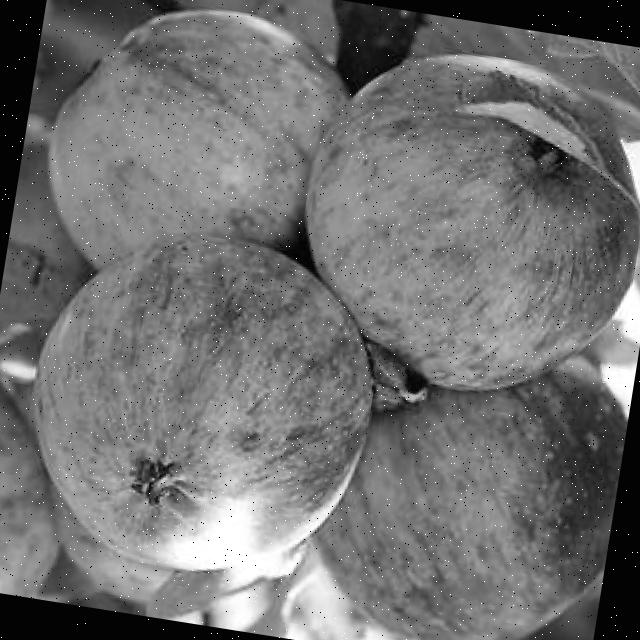apple: (9, 211, 394, 597), (277, 26, 640, 413)
